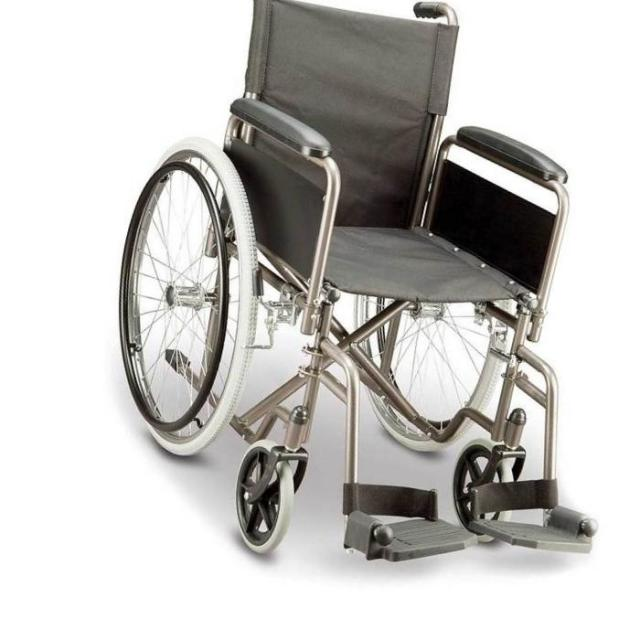wheelchair: (90, 0, 609, 588)
